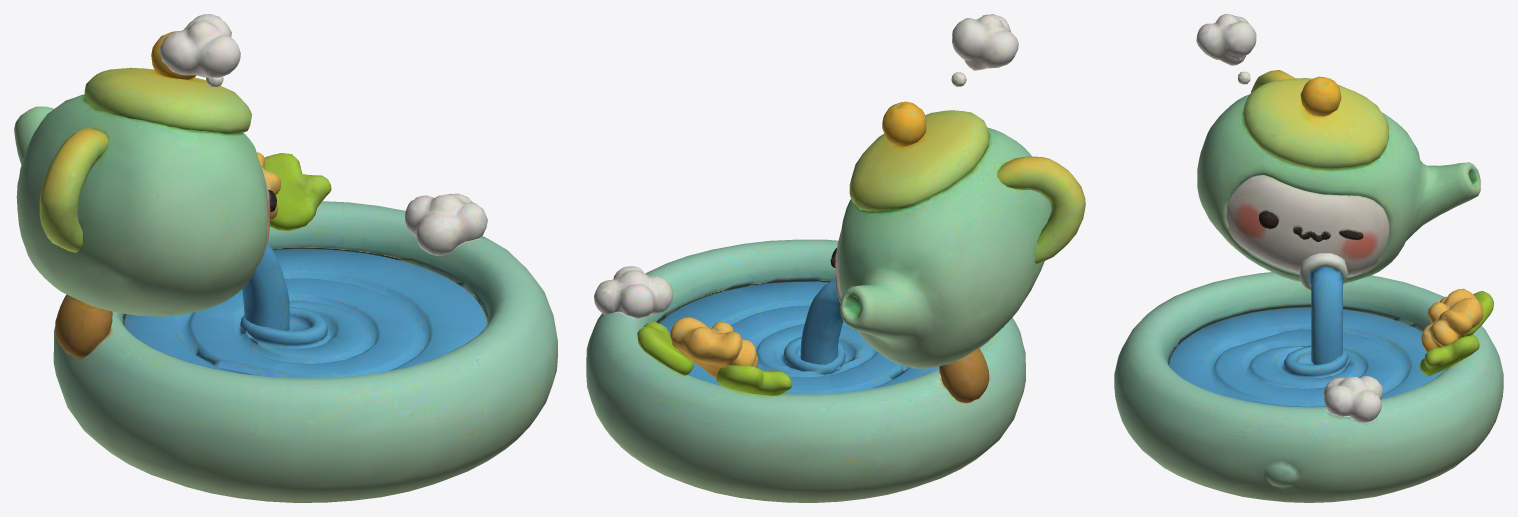
The model's file is teapot-fountain.glb.
3 renders of one model, left to right at view 1: azimuth 30°, elevation 25°; view 2: azimuth 150°, elevation 25°; view 3: azimuth 270°, elevation 25°, orthographic. The views are drawn at different scales.
Parts seen in each view (by area): view 1: tripo_node_dab678f6-b27f-4acc-84a3-194d0c03ff03; view 2: tripo_node_dab678f6-b27f-4acc-84a3-194d0c03ff03; view 3: tripo_node_dab678f6-b27f-4acc-84a3-194d0c03ff03.
Part boxes in pixels (left/top/right/bottom): tripo_node_dab678f6-b27f-4acc-84a3-194d0c03ff03: left=14, top=14, right=557, bottom=502; tripo_node_dab678f6-b27f-4acc-84a3-194d0c03ff03: left=586, top=14, right=1085, bottom=502; tripo_node_dab678f6-b27f-4acc-84a3-194d0c03ff03: left=1114, top=14, right=1503, bottom=502.
Size of the model in its own units: 0.998 by 0.8847 by 0.8613.
Materials: 1 (1 with a texture image).
